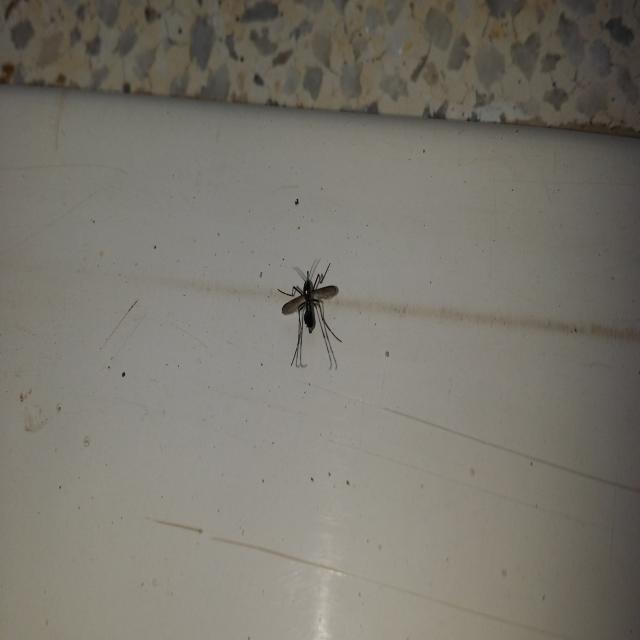albopictus: (275, 251, 344, 371)
